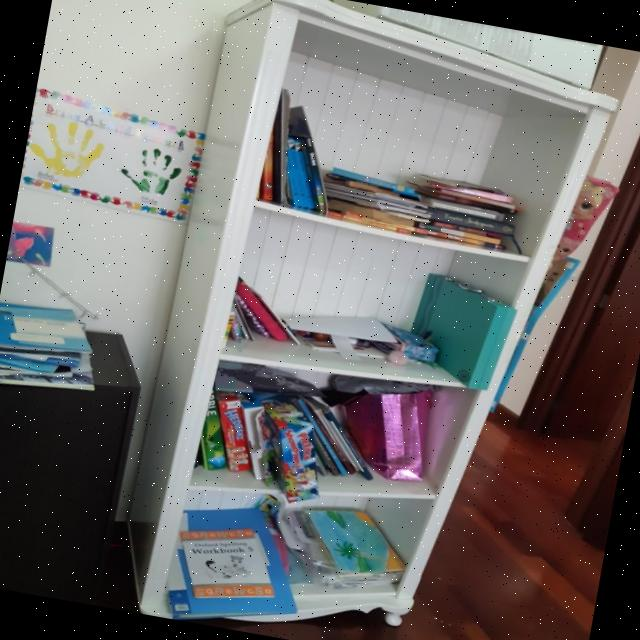Shelf: (99, 0, 638, 640)
